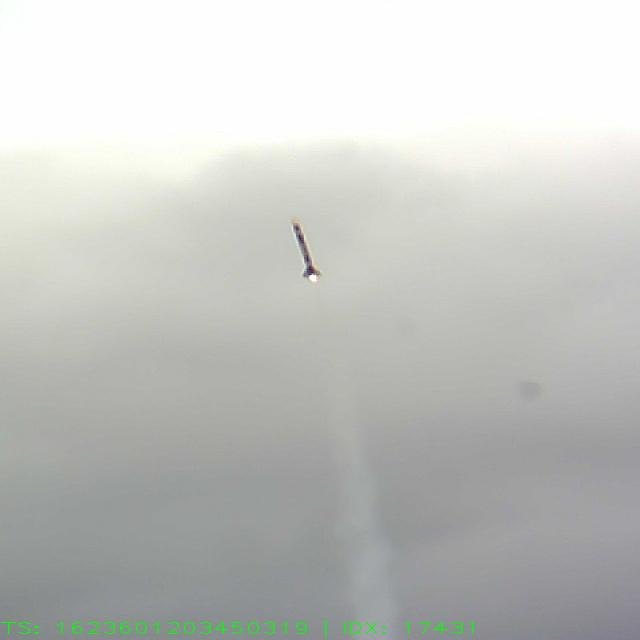Rocket: (290, 217, 323, 280)
